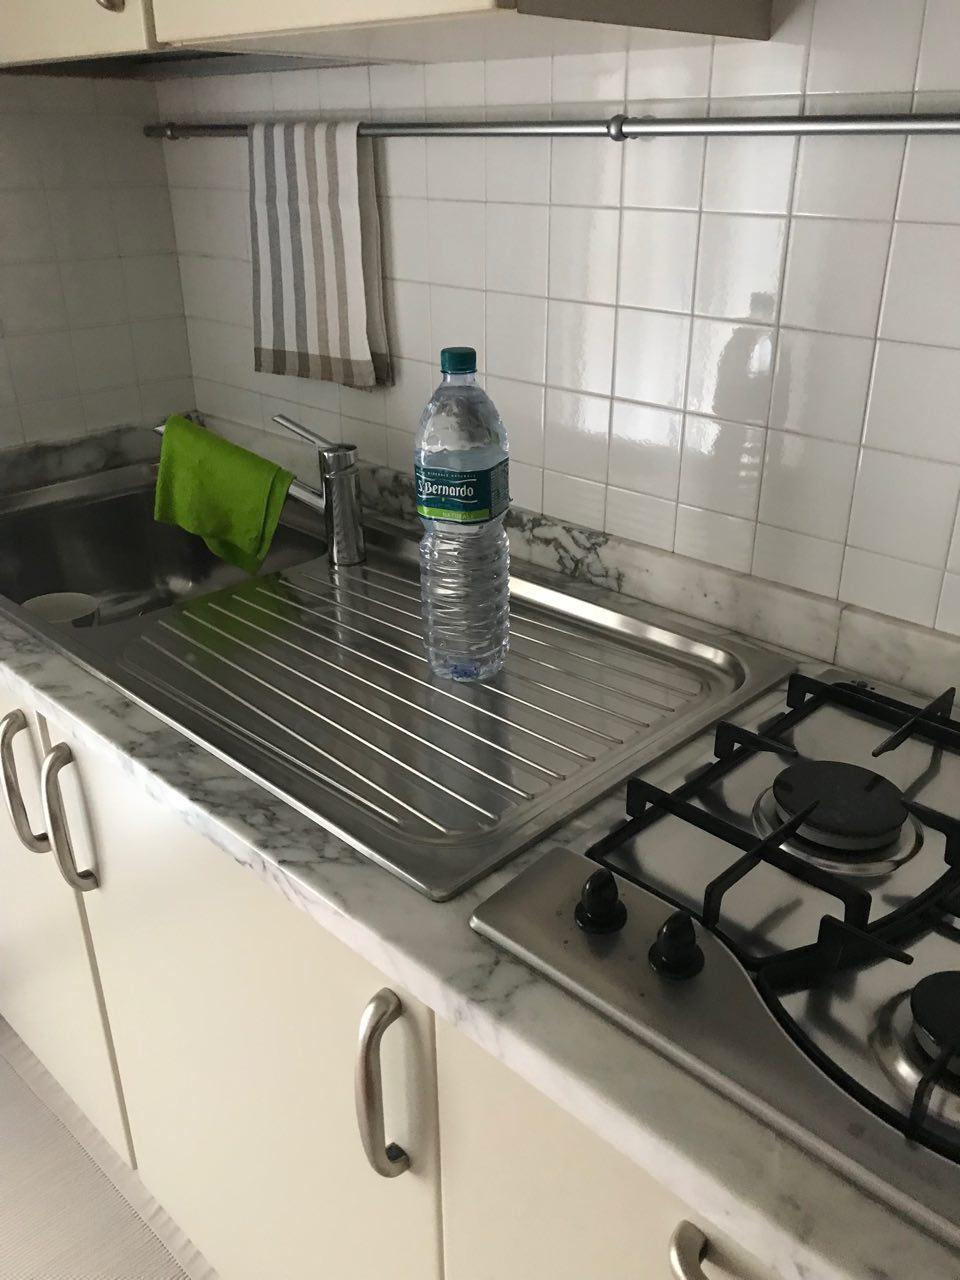san_bernardo: (414, 345, 509, 683)
